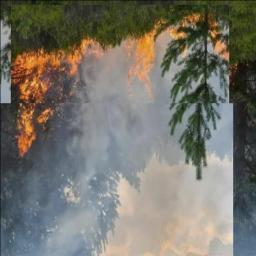Low smoke: (63, 67, 255, 255)
Medium fire: (7, 12, 231, 150)
